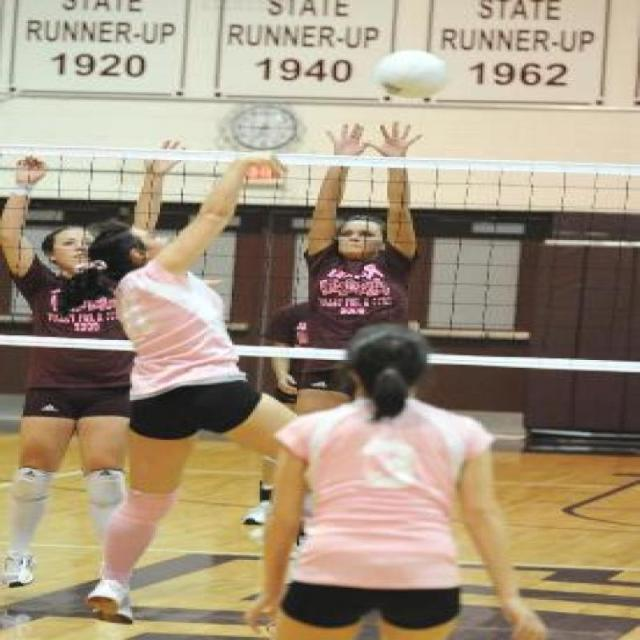volleyball: (378, 48, 450, 98)
